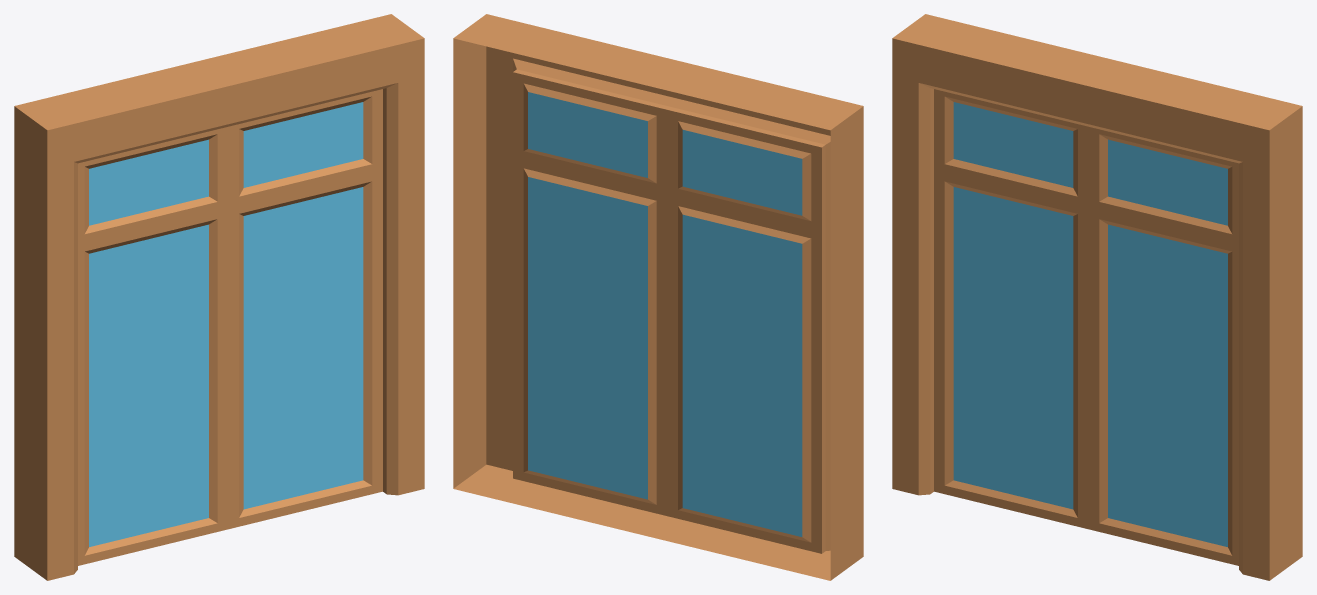
The model's file is DoorVitrine1.fbx.
3 renders of one model, left to right at view 1: azimuth 30°, elevation 25°; view 2: azimuth 150°, elevation 25°; view 3: azimuth 330°, elevation 25°, orthographic.
Visible parts, largest first — view 1: DoorVitrine1; view 2: DoorVitrine1; view 3: DoorVitrine1.
Boxes of the visible parts, x1,y1,x2,y2 form: DoorVitrine1: [14, 14, 424, 580]; DoorVitrine1: [453, 14, 863, 580]; DoorVitrine1: [892, 14, 1302, 580].
Size of the model in its own units: 3.34 by 0.5104 by 3.81.
